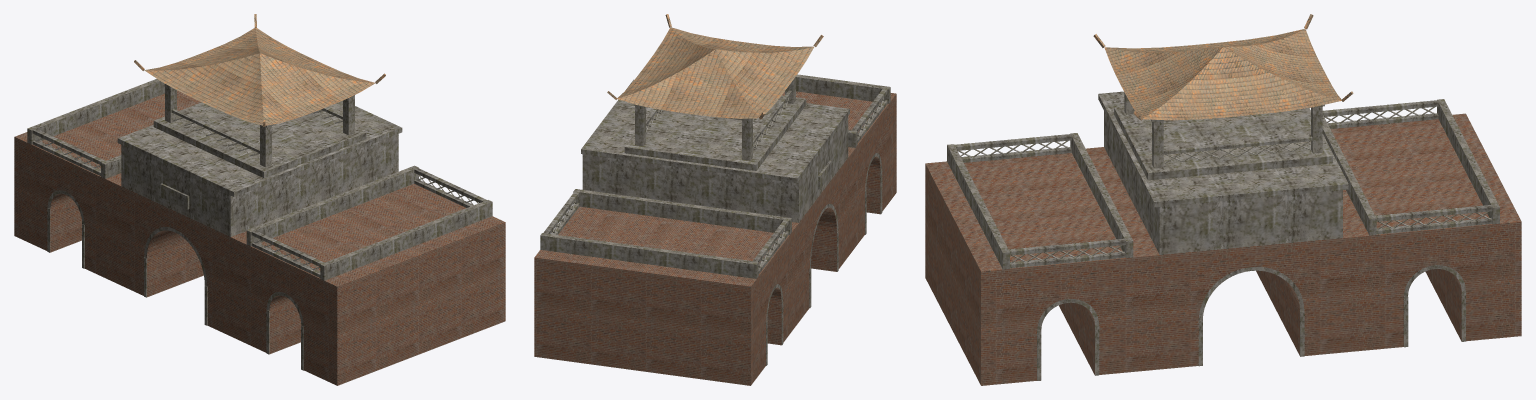
Rendered from o_quan_chuong.glb.
3 views of the same model, side by side, from view 1: azimuth 30°, elevation 25°; view 2: azimuth 150°, elevation 25°; view 3: azimuth 270°, elevation 25° (orthographic). The views are drawn at different scales.
Visible parts, largest first — view 1: brickwork, plaster, roof; view 2: brickwork, plaster, roof; view 3: brickwork, plaster, roof.
Part boxes in pixels (box(x1,y1,x2,y2)): brickwork: box(14, 90, 505, 385); plaster: box(27, 79, 492, 370); roof: box(134, 14, 385, 126); brickwork: box(534, 91, 896, 385); plaster: box(540, 74, 890, 365); roof: box(607, 14, 823, 119); brickwork: box(925, 113, 1521, 385); plaster: box(947, 91, 1499, 380); roof: box(1093, 14, 1353, 120).
Size of the model in its own units: 11.26 by 8.64 by 17.96.
Materials: 3 (3 with a texture image).
